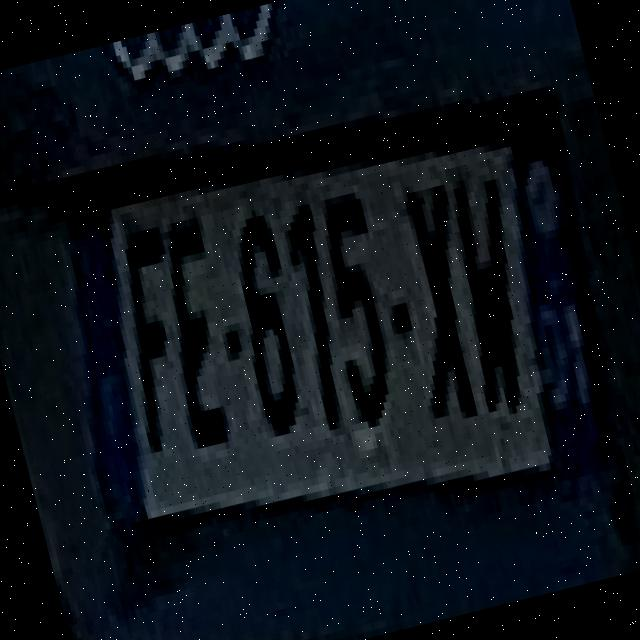Autre: (62, 127, 602, 510)
